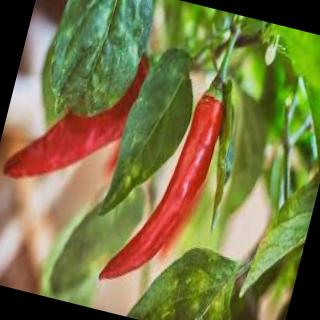Cabai Merah: (98, 57, 226, 282), (2, 50, 152, 182)
